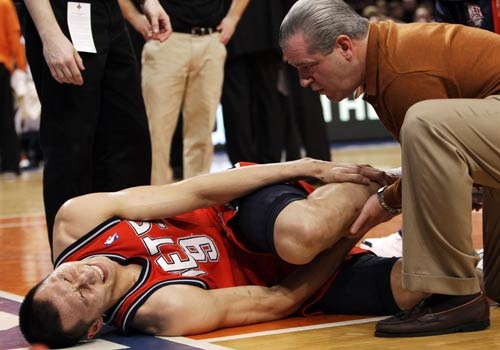falling: (10, 153, 489, 338)
